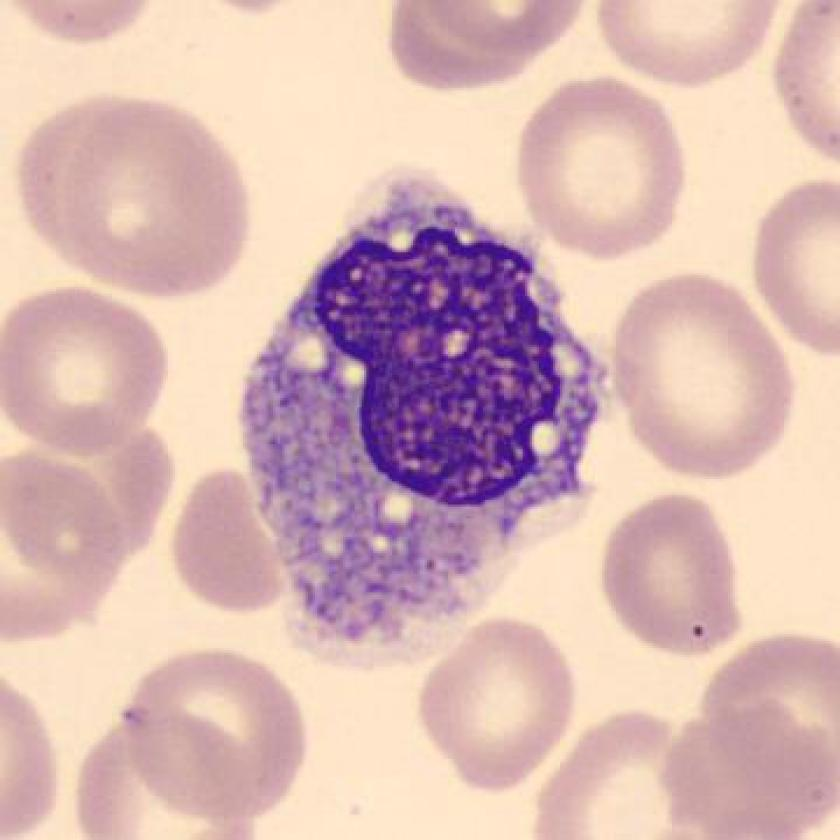monocyte: (228, 156, 627, 691)
